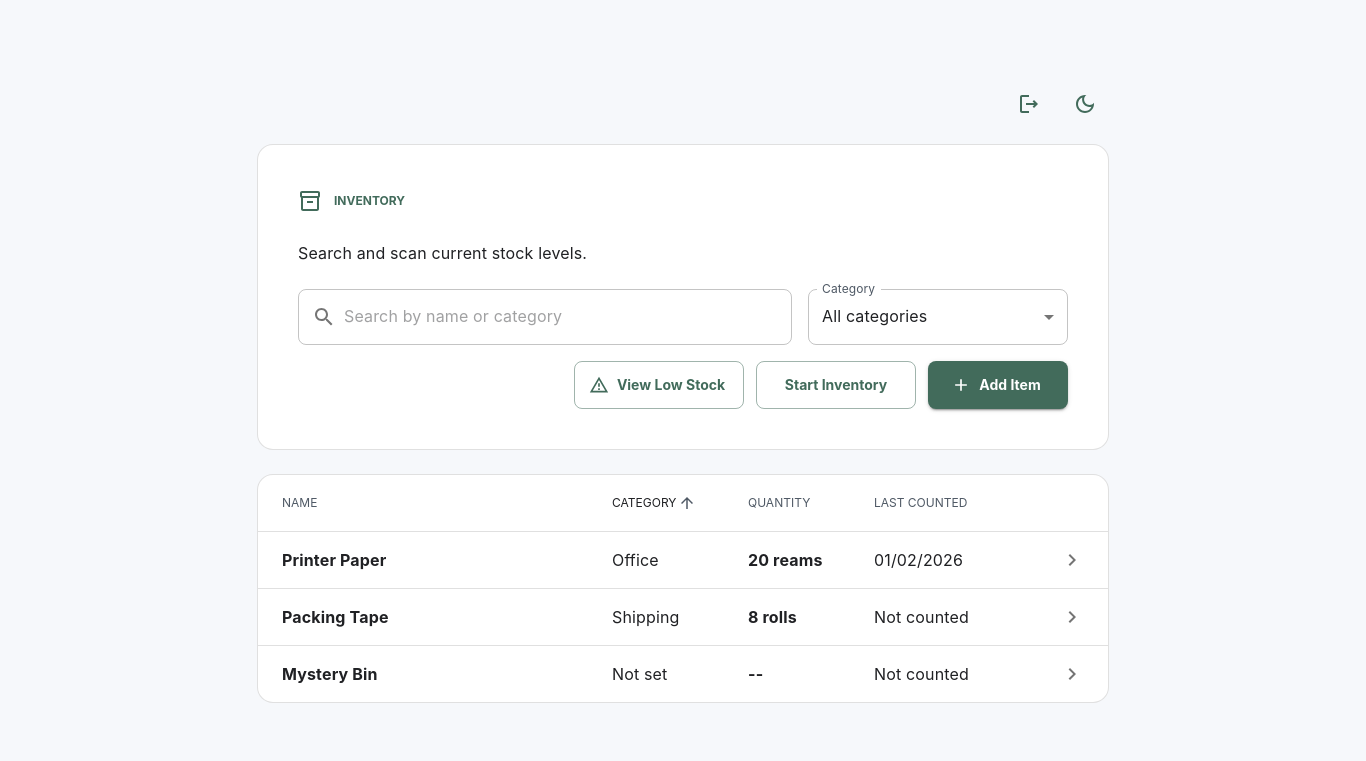
HomePage › confirms inventory by posting a batch payload and updating displayed quantities
Expected: the text "Printer Paper" is shown, [282,550,386,570]
Click the button "Start Inventory".
click(836, 385)  # box [756,361,916,409]
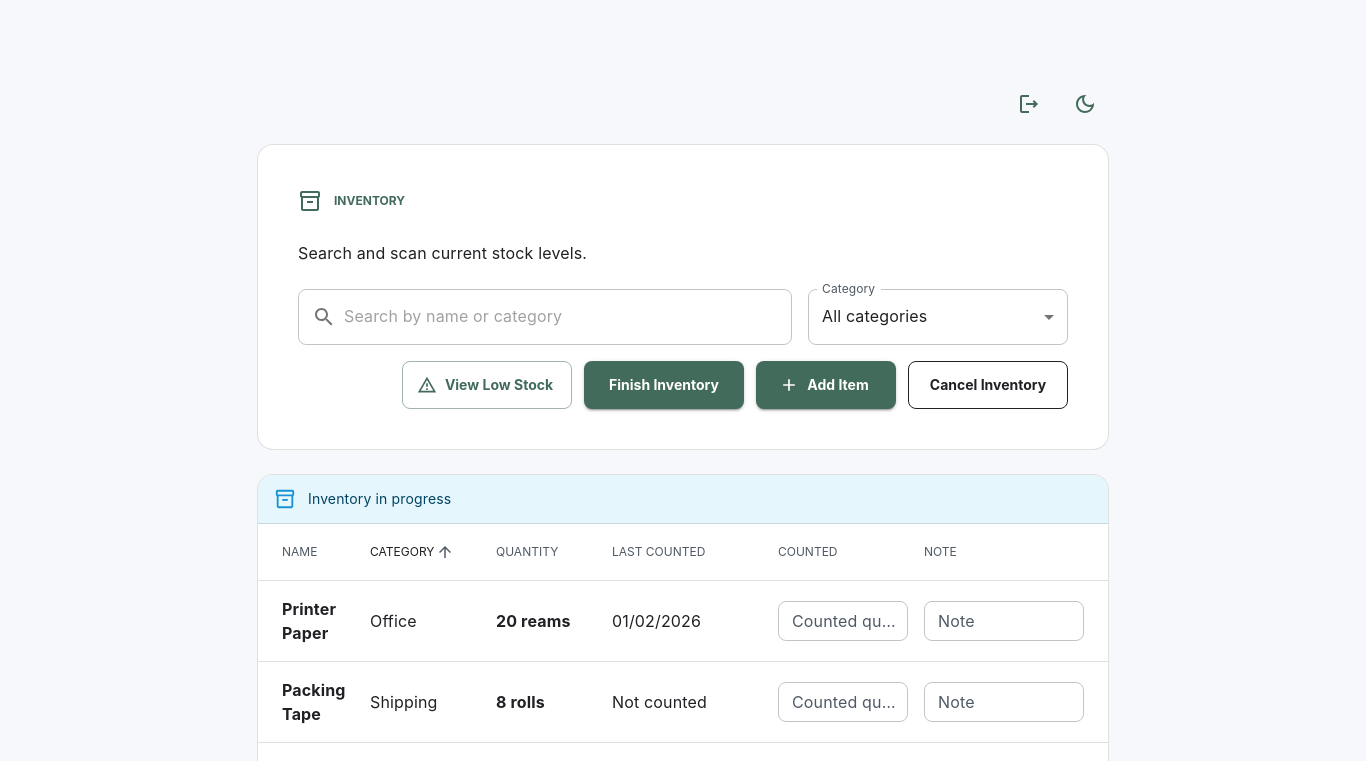
Type "24" into the number field named "Counted quantity for Printer Paper".
click(843, 621); type("24")  # box [778,601,908,641]
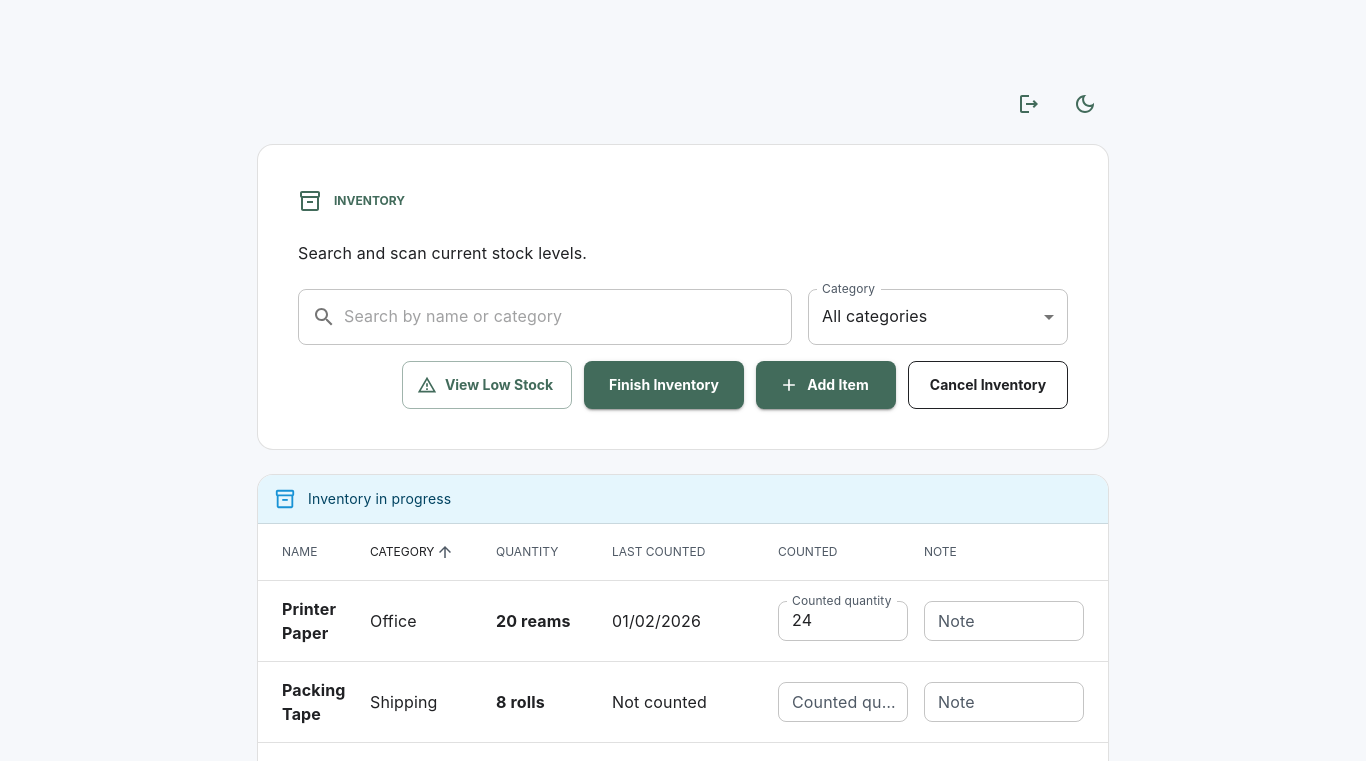
Type "Front shelf" into the field named "Inventory note for Printer Paper".
click(1004, 621); type("Front shelf")  # box [924,601,1084,641]
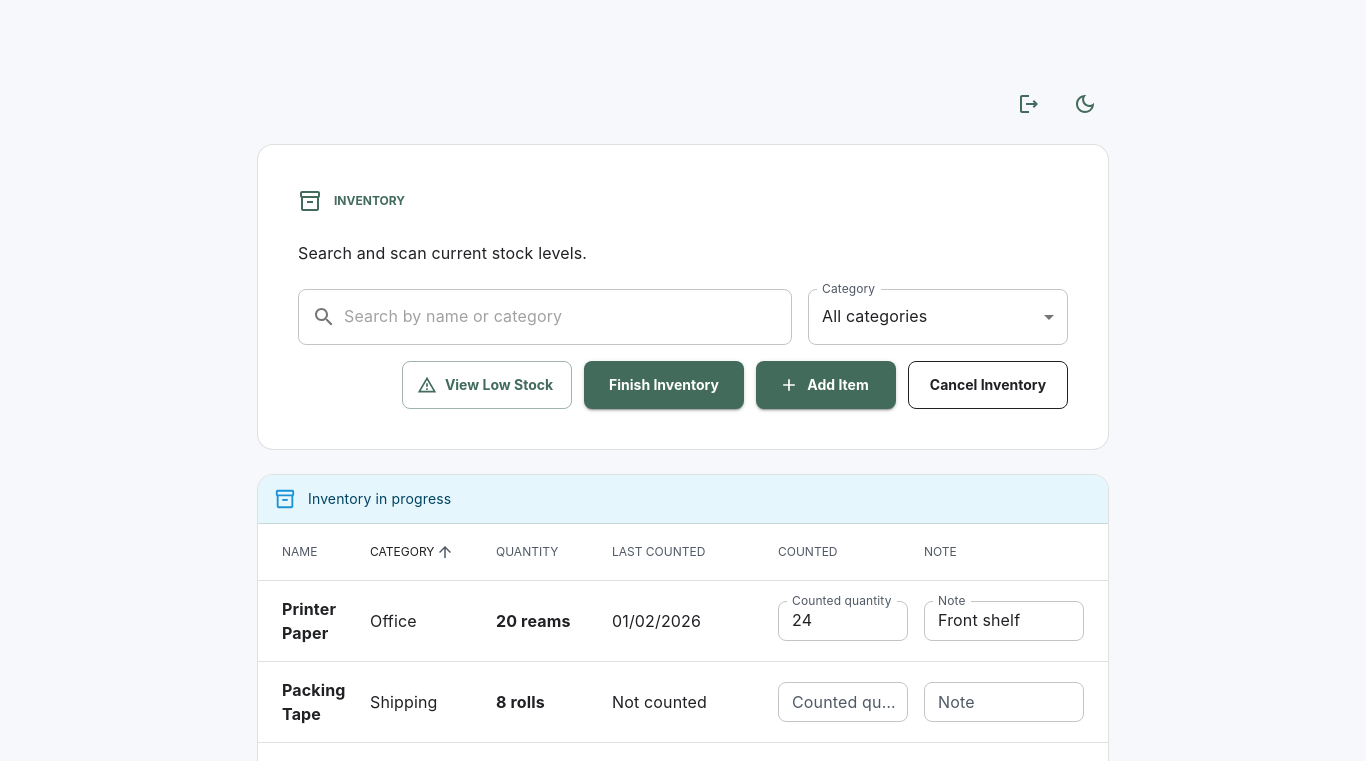
Click the button "Finish Inventory".
click(664, 385)  # box [584,361,744,409]
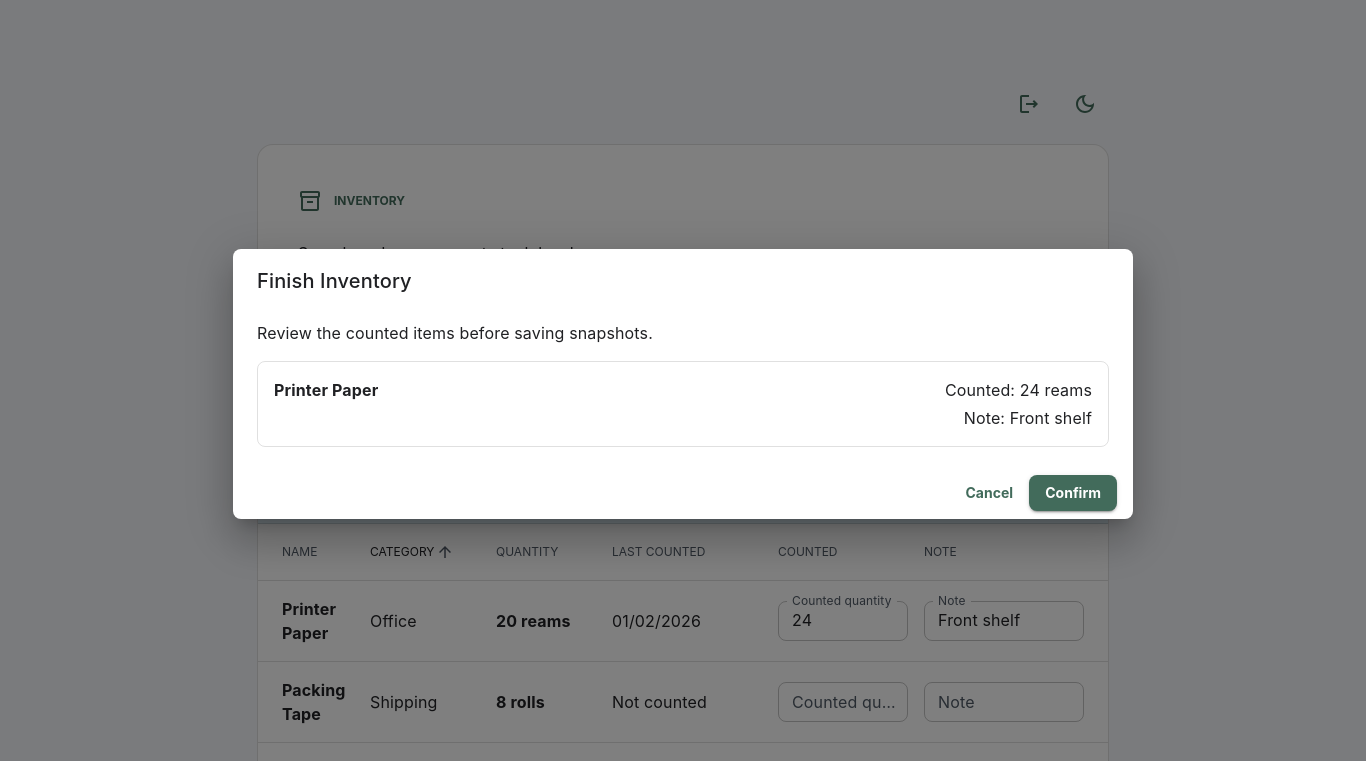
Click the button "Confirm".
click(1073, 493)  # box [1029,475,1117,511]
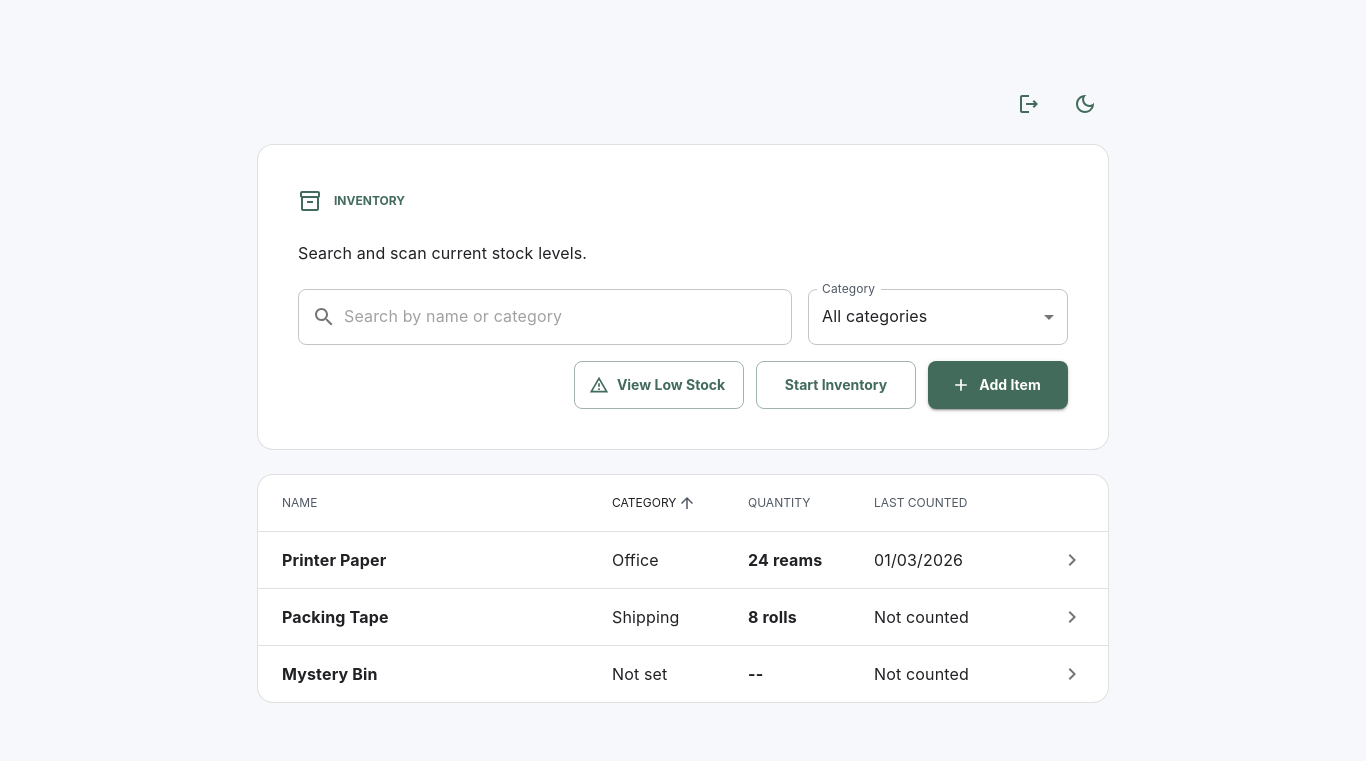
Expected: the text "24 reams" is shown, [748,548,822,572]
Expected: the button "Start Inventory" is shown, [756,361,916,409]
